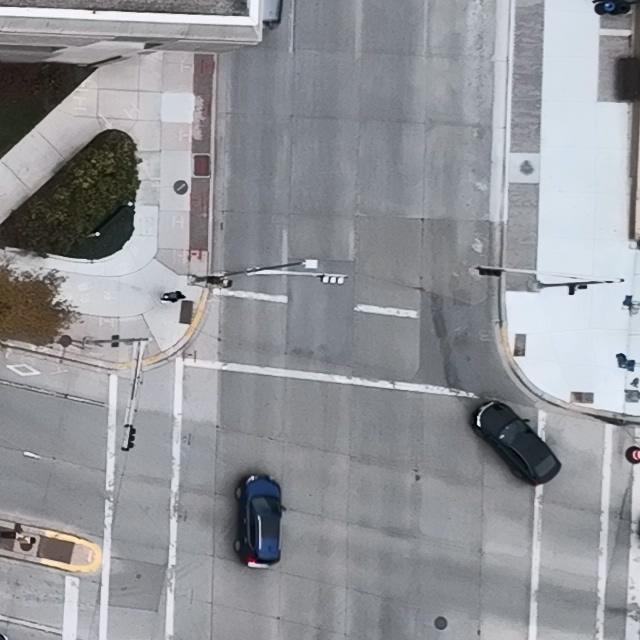car: (470, 400, 562, 485), (234, 474, 287, 569)
